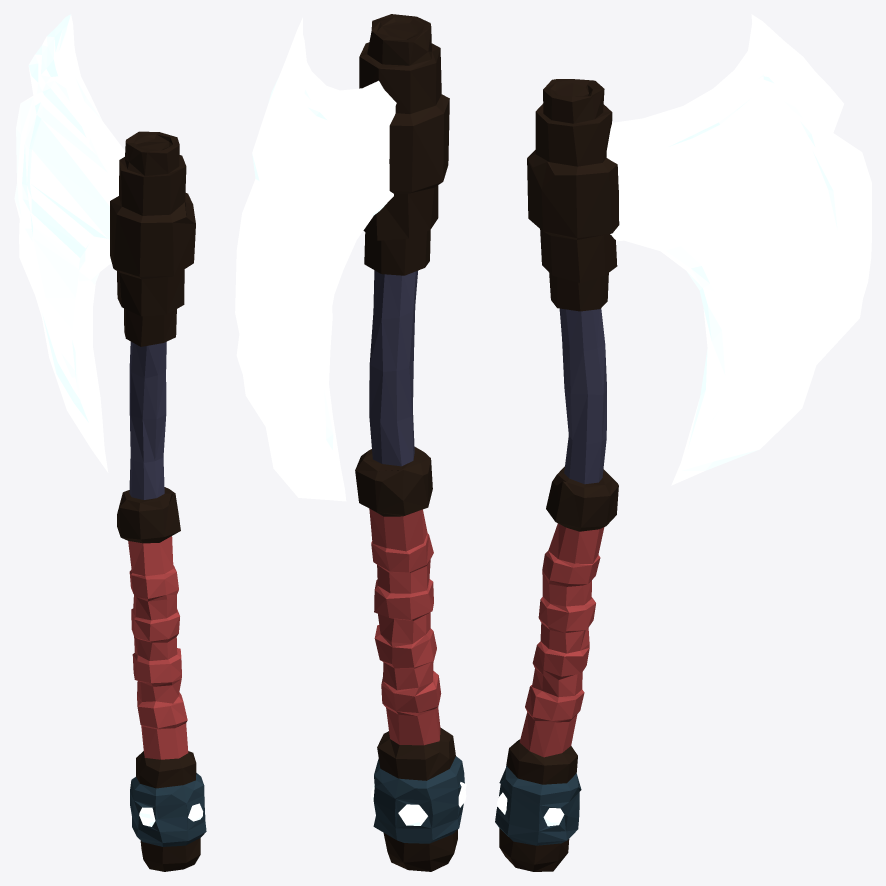
The model's file is SFFA_Weapon_Axe_Runical_002.fbx.
3 views of the same model, side by side, from view 1: azimuth 30°, elevation 25°; view 2: azimuth 150°, elevation 25°; view 3: azimuth 270°, elevation 25° (orthographic). The views are drawn at different scales.
Visible parts, largest first — view 1: SFFA_Weapon_Axe_Runical_002; view 2: SFFA_Weapon_Axe_Runical_002; view 3: SFFA_Weapon_Axe_Runical_002.
Boxes of the visible parts, x1,y1,x2,y2 form: SFFA_Weapon_Axe_Runical_002: (14, 14, 206, 871); SFFA_Weapon_Axe_Runical_002: (235, 14, 466, 871); SFFA_Weapon_Axe_Runical_002: (495, 14, 871, 871).
Bounding box in the file's own units: 6.21 × 61.09 × 24.57.
